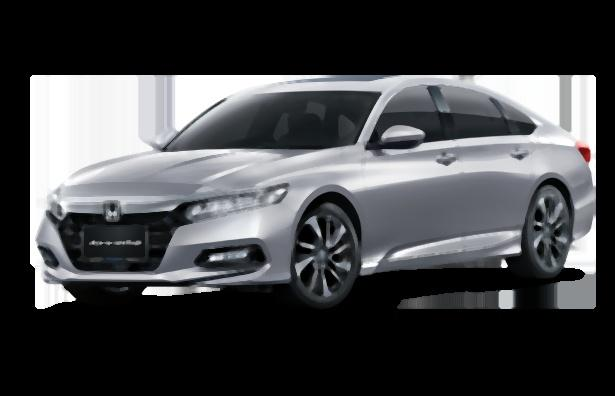Car hood: (48, 143, 354, 216)
Fender - -F-L-: (283, 144, 369, 278)
Fender - -R-L-: (516, 105, 585, 221)
Front bumper: (36, 208, 297, 288)
Headlight - -L-: (184, 181, 291, 225)
Headlight - -R-: (43, 181, 64, 224)
Passenger-s door - -F-L-: (350, 76, 474, 278)
Passenger-s door - -R-L-: (441, 74, 543, 277)
Rear bumper: (567, 178, 598, 246)
Rear light - -L-: (574, 139, 594, 166)
Side bumper - -L-: (356, 227, 528, 287)
Side mirror - -L-: (360, 126, 426, 155)
Side mirror - -R-: (144, 128, 176, 155)
